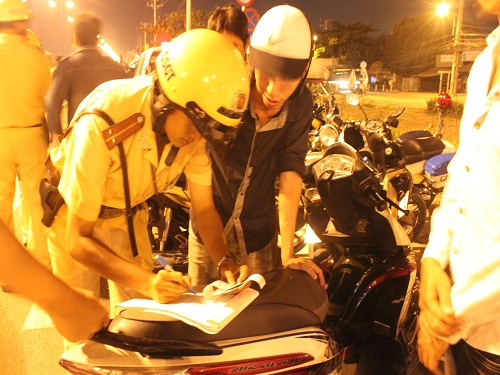police: (49, 28, 262, 348)
